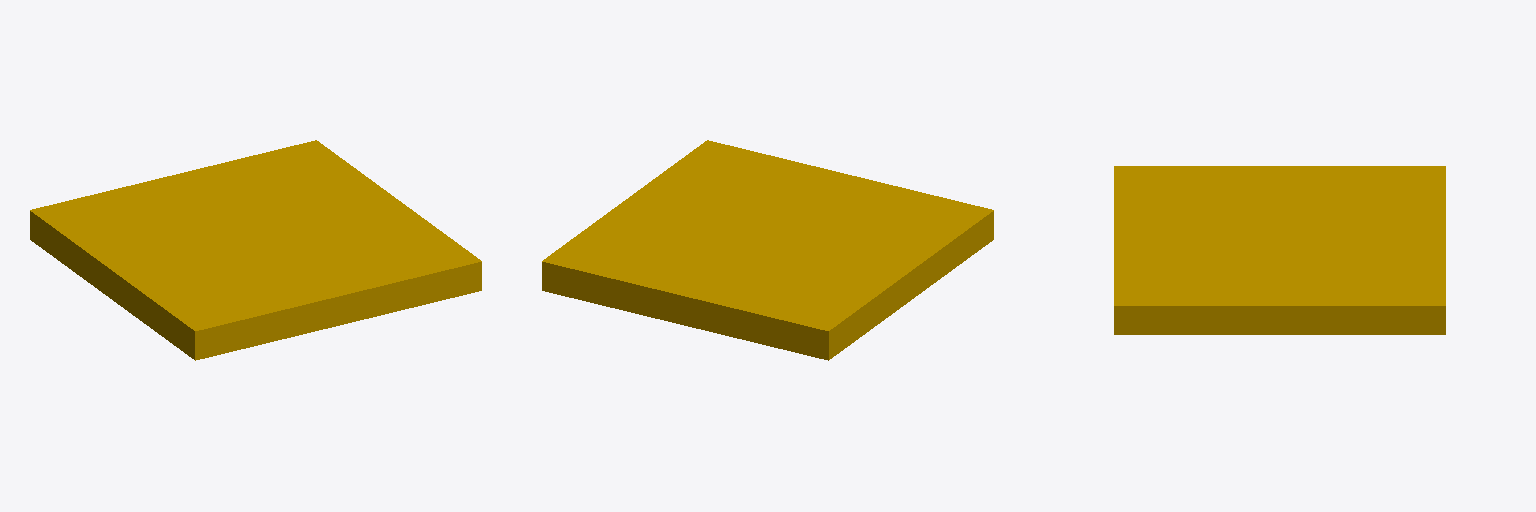
Rendered from argon.obj.
3 renders of one model, left to right at view 1: azimuth 30°, elevation 25°; view 2: azimuth 150°, elevation 25°; view 3: azimuth 270°, elevation 25°, orthographic.
Parts seen in each view (by area): view 1: Cube; view 2: Cube; view 3: Cube.
Boxes of the visible parts, x1=… form: Cube: x1=30, y1=140, x2=481, y2=360; Cube: x1=542, y1=140, x2=993, y2=360; Cube: x1=1114, y1=166, x2=1445, y2=334.
Bounding box in the file's own units: 5.21 × 0.7002 × 5.21.